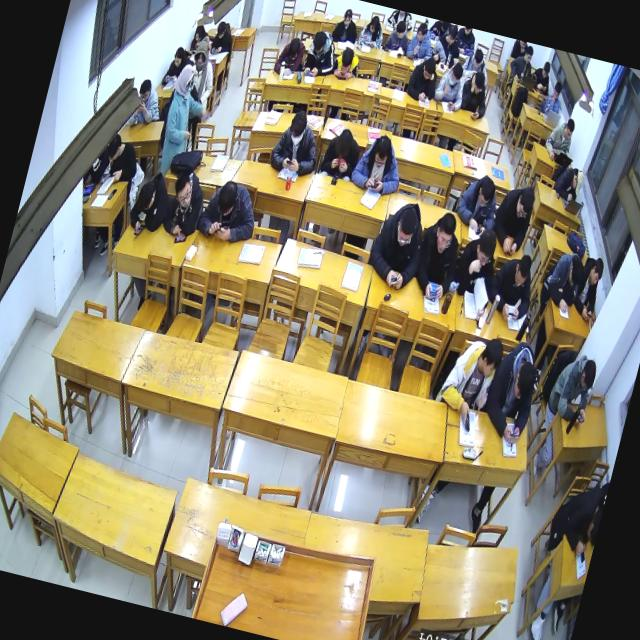bow: (193, 171, 266, 250), (120, 166, 176, 246), (536, 242, 588, 314), (272, 28, 311, 78), (550, 157, 588, 202), (329, 41, 363, 82)
down: (474, 332, 508, 384), (507, 357, 540, 408), (430, 206, 460, 256), (390, 204, 420, 252), (470, 226, 500, 273), (212, 178, 242, 222), (284, 107, 311, 150), (511, 180, 538, 222), (508, 251, 534, 293), (368, 129, 394, 170), (132, 178, 160, 216), (332, 120, 358, 160), (576, 354, 600, 394), (472, 172, 497, 210), (190, 34, 213, 74), (564, 254, 586, 290), (104, 131, 125, 166), (587, 252, 607, 286), (134, 75, 155, 107), (284, 32, 304, 62), (308, 29, 328, 58), (568, 166, 586, 198), (469, 68, 488, 98), (419, 56, 438, 84), (560, 115, 578, 144), (337, 45, 356, 71), (170, 44, 187, 70), (443, 23, 460, 48), (470, 46, 486, 71), (366, 12, 382, 36), (549, 79, 564, 104), (192, 21, 208, 43), (520, 43, 535, 66), (340, 6, 355, 28), (214, 16, 228, 38), (540, 57, 553, 78)
lookup: (168, 168, 198, 213)
sit: (429, 321, 509, 434), (476, 331, 548, 446), (362, 193, 434, 295), (153, 58, 215, 176), (405, 203, 470, 304), (443, 220, 506, 324), (541, 475, 608, 563), (482, 239, 544, 324), (542, 344, 602, 428), (265, 105, 328, 182), (347, 126, 411, 200), (158, 160, 213, 244), (486, 174, 540, 256), (450, 167, 506, 240), (180, 30, 225, 113), (316, 122, 366, 186), (97, 127, 146, 190), (568, 250, 609, 322), (298, 22, 343, 82), (125, 74, 169, 135), (428, 54, 471, 114), (454, 65, 496, 122), (540, 108, 580, 164), (403, 51, 444, 105), (428, 20, 467, 70), (456, 41, 496, 89), (402, 17, 440, 67), (159, 40, 194, 90), (329, 3, 364, 47), (355, 11, 388, 52), (506, 40, 538, 82), (208, 14, 238, 58), (540, 73, 568, 120), (382, 17, 414, 58), (527, 55, 557, 93), (186, 20, 212, 58)
